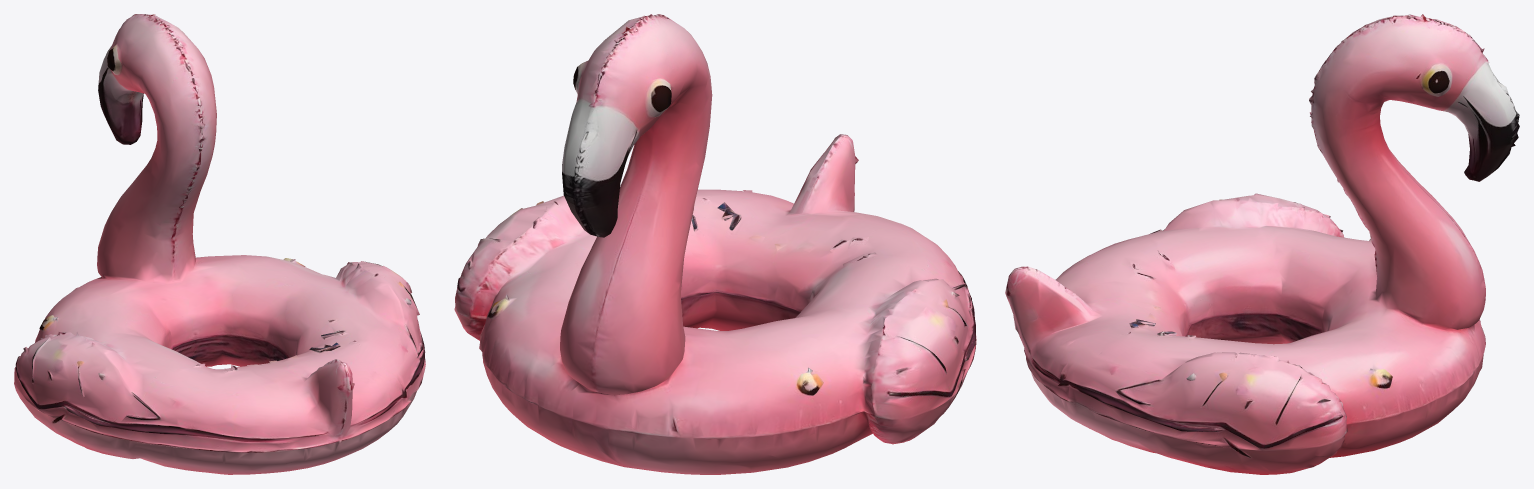
The model's file is flamingo_float.glb.
3 renders of one model, left to right at view 1: azimuth 30°, elevation 25°; view 2: azimuth 150°, elevation 25°; view 3: azimuth 270°, elevation 25°, orthographic. The views are drawn at different scales.
Visible parts, largest first — view 1: tripo_node_a60ef631-616e-4a48-a8eb-52cc909a87f5; view 2: tripo_node_a60ef631-616e-4a48-a8eb-52cc909a87f5; view 3: tripo_node_a60ef631-616e-4a48-a8eb-52cc909a87f5.
Boxes of the visible parts, x1,y1,x2,y2 form: tripo_node_a60ef631-616e-4a48-a8eb-52cc909a87f5: [14, 14, 425, 474]; tripo_node_a60ef631-616e-4a48-a8eb-52cc909a87f5: [454, 14, 976, 474]; tripo_node_a60ef631-616e-4a48-a8eb-52cc909a87f5: [1005, 14, 1519, 474].
Bounding box in the file's own units: 0.9305 × 0.8238 × 1.
1 material, 1 textured.
